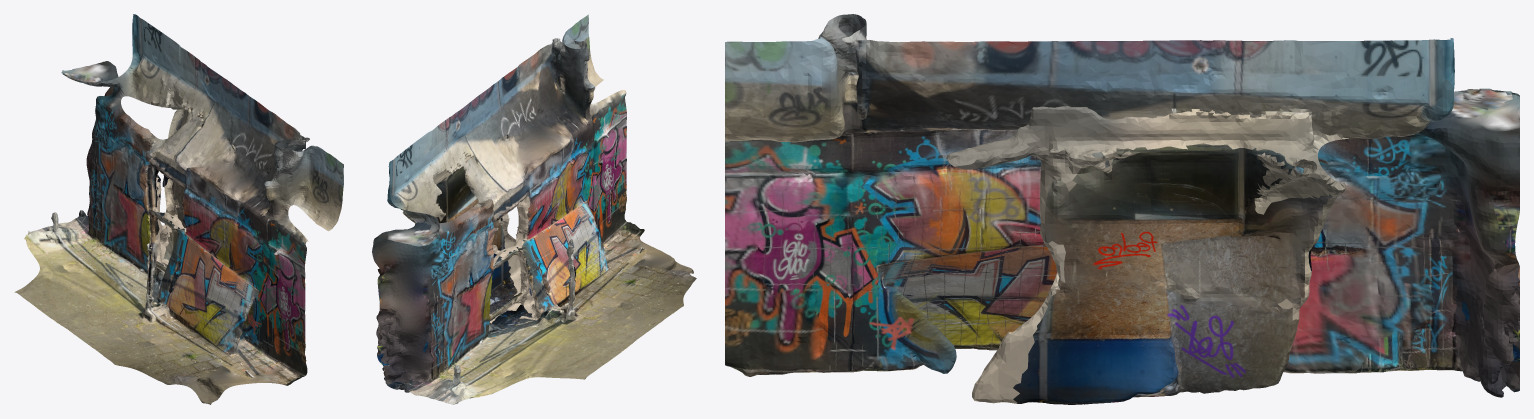
File: S020_BuildingInProgress.glb
The picture shows the model from 3 angles, left to right: view 1: azimuth 30°, elevation 25°; view 2: azimuth 150°, elevation 25°; view 3: azimuth 270°, elevation 25°; orthographic projection. The views are drawn at different scales.
Parts seen in each view (by area): view 1: Apr29at4-24PM-poly.001; view 2: Apr29at4-24PM-poly.001; view 3: Apr29at4-24PM-poly.001.
Boxes of the visible parts, x1,y1,x2,y2 form: Apr29at4-24PM-poly.001: (14, 14, 343, 404); Apr29at4-24PM-poly.001: (372, 14, 696, 404); Apr29at4-24PM-poly.001: (725, 14, 1519, 404).
Size of the model in its own units: 3.41 by 3.97 by 7.31.
Materials: 1 (1 with a texture image).
